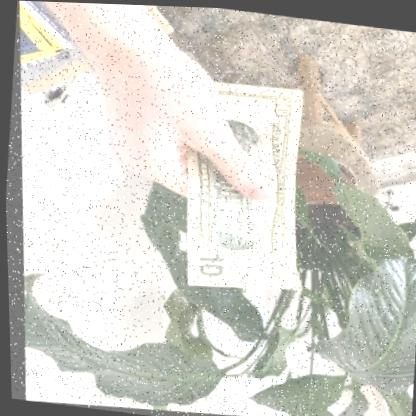ten-back: (158, 73, 317, 300)
